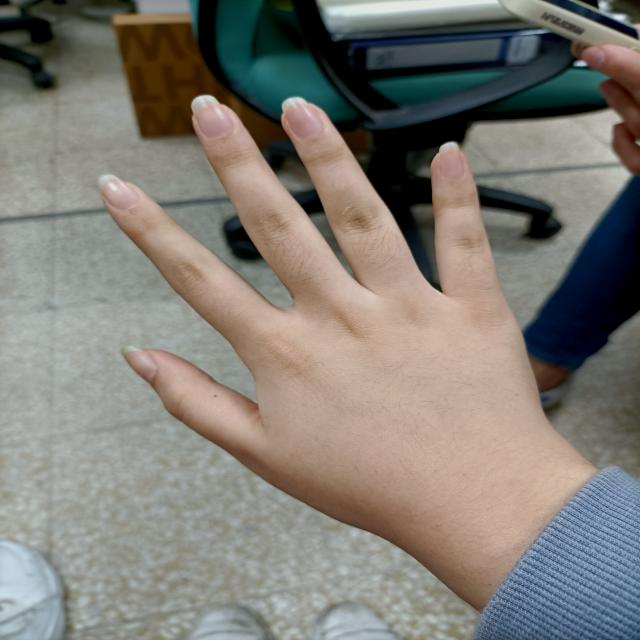no_glove: (88, 79, 571, 556)
